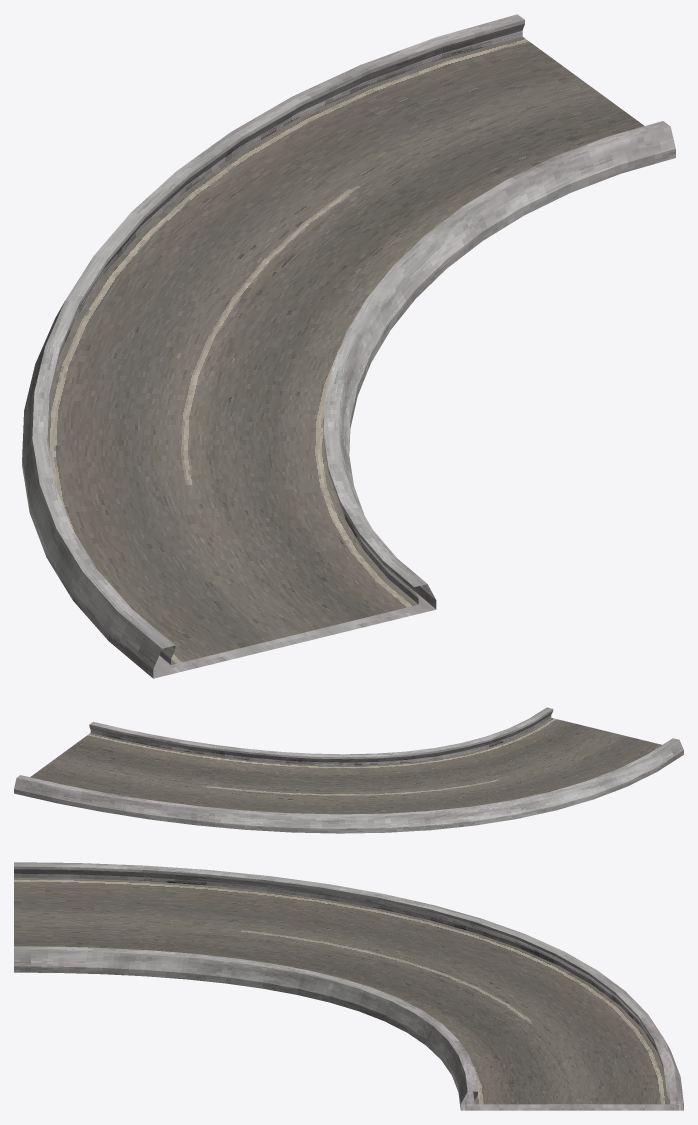
Rendered from turn-right3x3.glb.
3 views of the same model, one above another, from view 1: azimuth 30°, elevation 25°; view 2: azimuth 150°, elevation 25°; view 3: azimuth 270°, elevation 25° (orthographic). The views are drawn at different scales.
Parts seen in each view (by area): view 1: road-Turn-Flat-Flat-Up1-Right-Size3; view 2: road-Turn-Flat-Flat-Up1-Right-Size3; view 3: road-Turn-Flat-Flat-Up1-Right-Size3.
Boxes of the visible parts, x1,y1,x2,y2 form: road-Turn-Flat-Flat-Up1-Right-Size3: [22, 14, 675, 678]; road-Turn-Flat-Flat-Up1-Right-Size3: [14, 707, 683, 833]; road-Turn-Flat-Flat-Up1-Right-Size3: [14, 862, 683, 1110].
Bounding box in the file's own units: 3 × 0.3438 × 3.
Materials: 2 (2 with a texture image).
